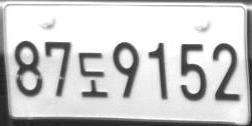1: (146, 42, 173, 99)
2: (212, 42, 240, 101)
5: (179, 43, 207, 101)
7: (44, 41, 71, 97)
8: (13, 39, 43, 98)
9: (112, 41, 138, 98)
도: (78, 52, 108, 97)
